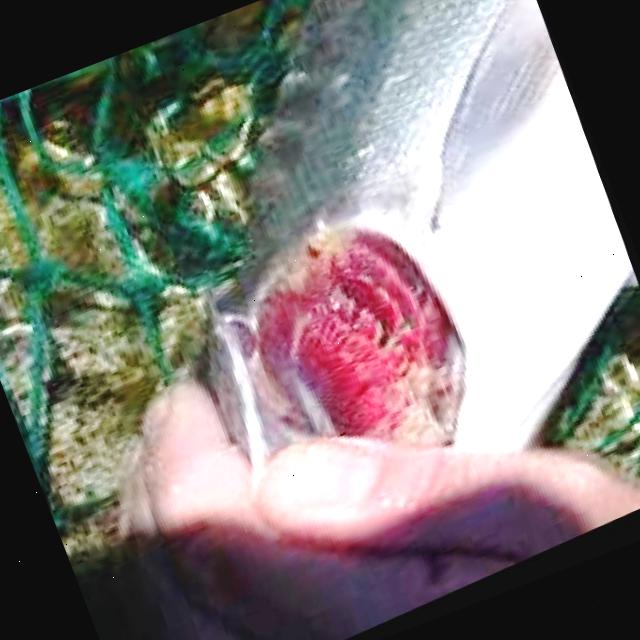Flavobacterium -Bacterial Gill Disease-: (201, 0, 631, 460)
